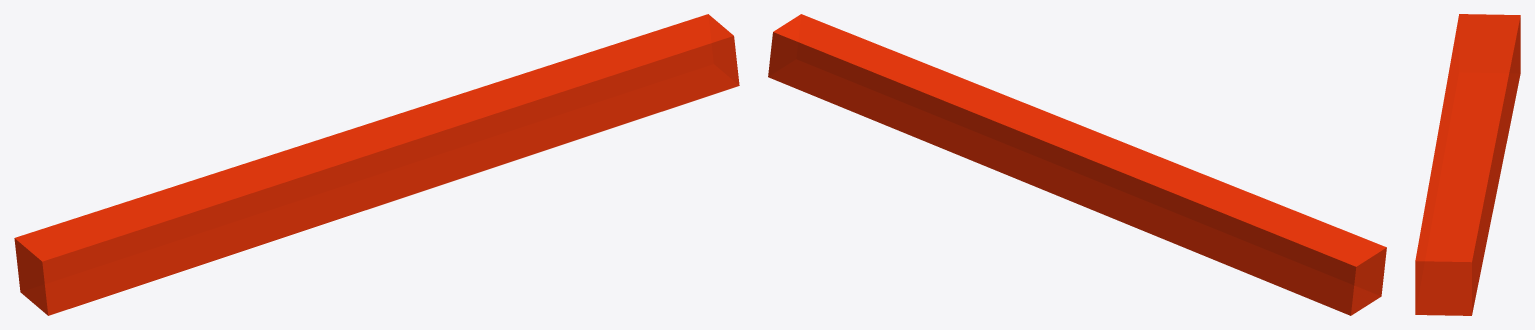
File: Event_421364160_EErechit_29.fbx
The picture shows the model from 3 angles, left to right: view 1: azimuth 30°, elevation 25°; view 2: azimuth 150°, elevation 25°; view 3: azimuth 270°, elevation 25°; orthographic projection. The views are drawn at different scales.
Parts seen in each view (by area): view 1: Model; view 2: Model; view 3: Model.
Part boxes in pixels (x1,y1,x2,y2): Model: [14, 14, 739, 315]; Model: [768, 14, 1386, 315]; Model: [1415, 14, 1520, 315].
Bounding box in the file's own units: 0.9963 × 0.1891 × 0.1348.
